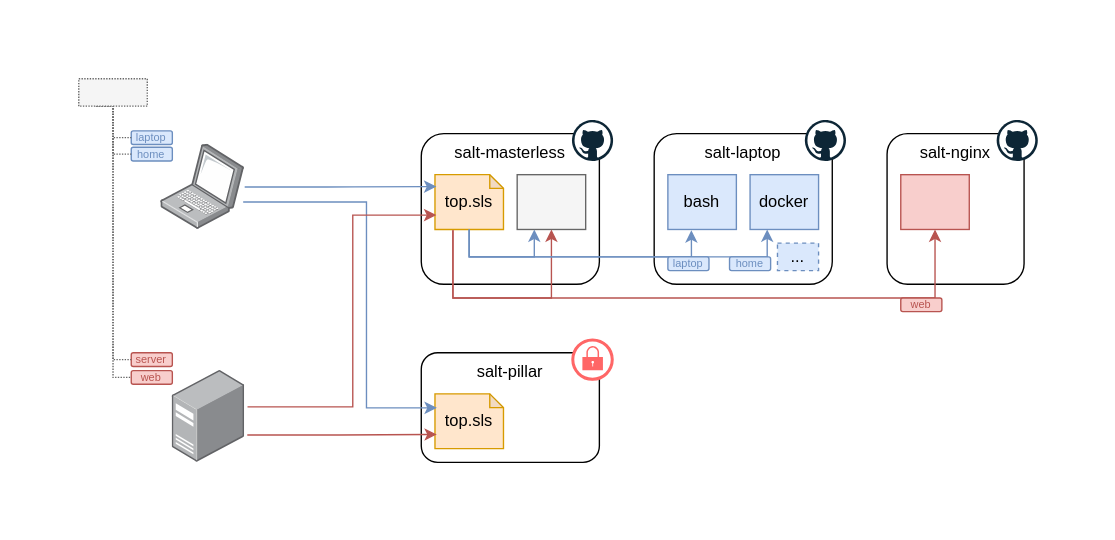
The diagram is 1115 pixels wide and 540 high, and some of its shapes have lost their labels. Each missing label, with the centre of its shape:
"nginx" goes at (x=934, y=201).
"roles grains" goes at (x=112, y=91).
"salt" goes at (x=551, y=201).
